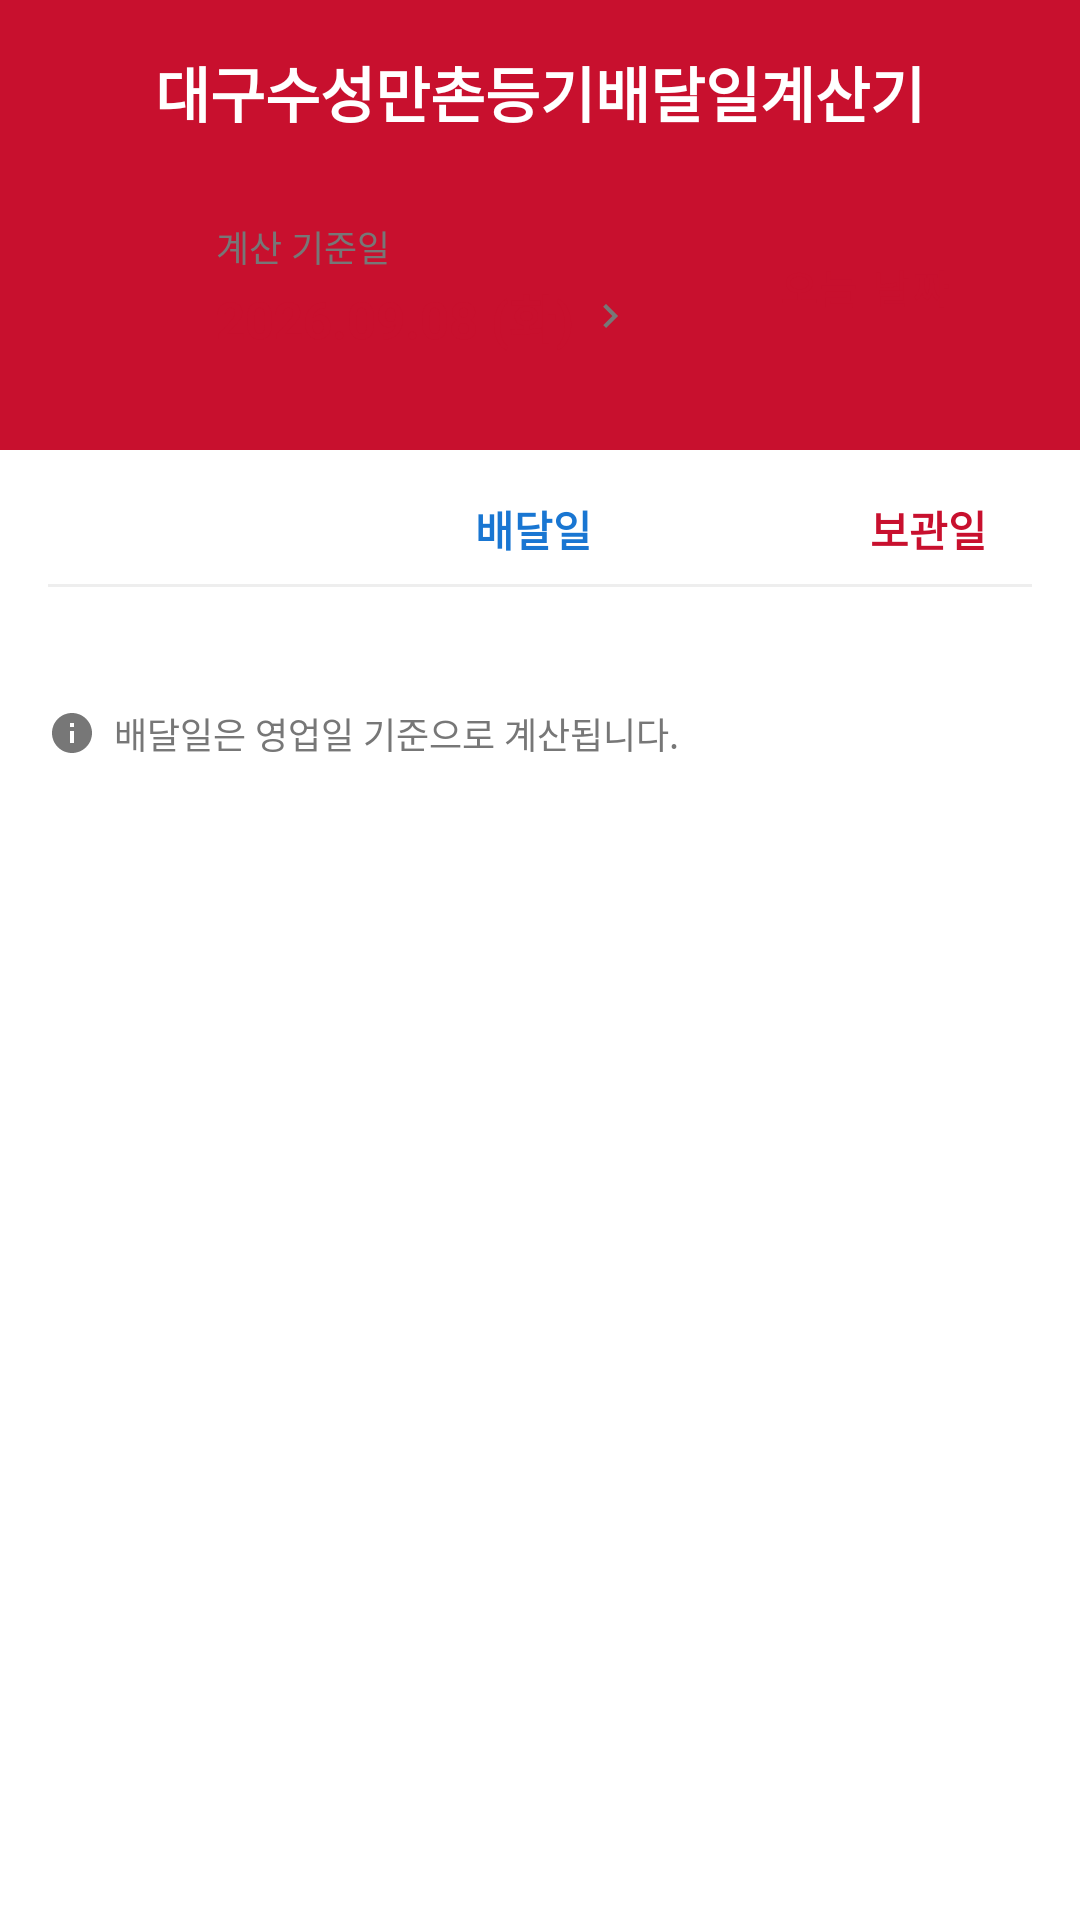

Point at icon controls on the screen. Image size 1080 x 1920, points as (x=x, y=y).
선택: (x=610, y=316)
안내: (x=72, y=733)
